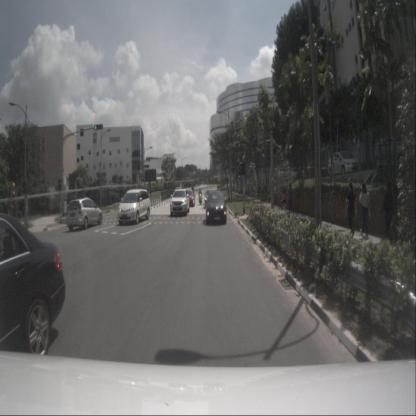human-pedestrian-adult: (381, 183, 394, 241), (346, 182, 357, 238), (393, 186, 403, 242), (360, 183, 370, 238), (288, 184, 293, 214), (282, 189, 286, 211)
vehicle-car: (0, 213, 66, 361), (374, 136, 411, 170), (117, 188, 151, 224), (66, 198, 103, 231), (328, 151, 359, 177), (206, 190, 226, 225), (170, 188, 190, 216), (306, 161, 327, 179), (204, 189, 217, 209), (184, 190, 195, 207)
vehicle-motorcycle: (198, 188, 202, 206)
